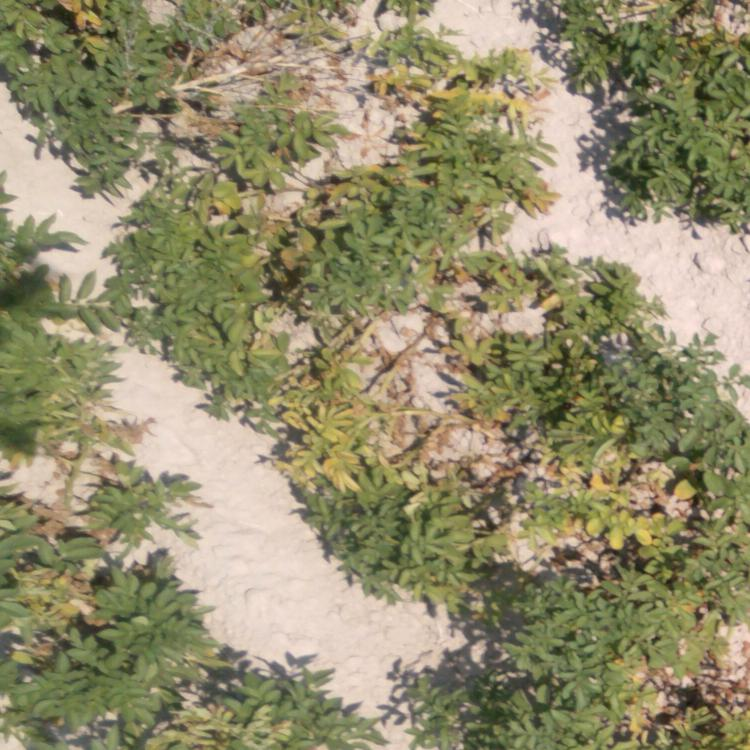healthy: (558, 2, 737, 220), (2, 660, 361, 749), (1, 196, 124, 450), (1, 3, 177, 180), (397, 574, 554, 749), (647, 333, 746, 456), (312, 502, 430, 588), (135, 194, 194, 339), (344, 235, 426, 312)
stressed: (201, 319, 448, 498), (455, 225, 635, 458), (370, 1, 538, 224), (562, 571, 750, 749), (1, 477, 177, 658), (463, 465, 719, 570), (204, 108, 331, 248)
